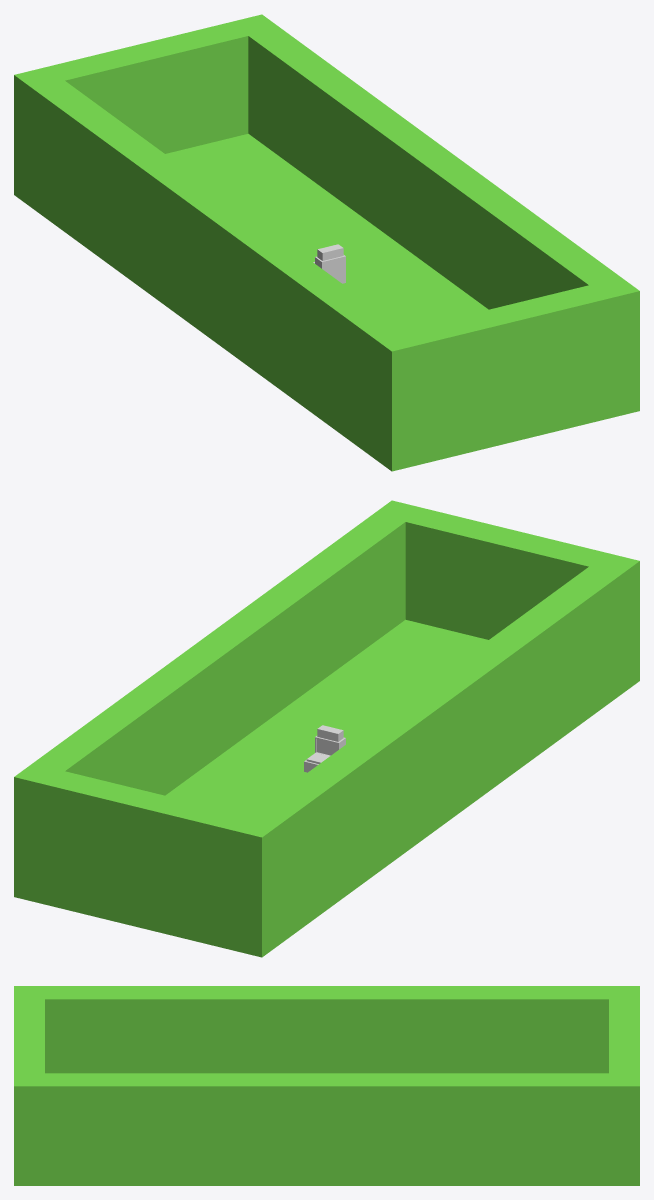
Rendered from train.glb.
3 renders of one model, top to bottom at view 1: azimuth 30°, elevation 25°; view 2: azimuth 150°, elevation 25°; view 3: azimuth 270°, elevation 25°, orthographic. The views are drawn at different scales.
Parts seen in each view (by area): view 1: train, Chair; view 2: train, Chair; view 3: train.
Part boxes in pixels (left/top/right/bottom): train: left=14, top=14, right=639, bottom=471; Chair: left=313, top=244, right=345, bottom=283; train: left=14, top=500, right=639, bottom=957; Chair: left=304, top=725, right=345, bottom=772; train: left=14, top=986, right=639, bottom=1185.
Bounding box in the file's own units: 7.07 × 3.27 × 18.65.
